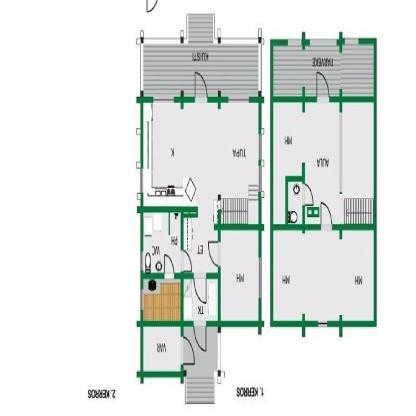door: (315, 68, 329, 104), (194, 320, 208, 354), (194, 71, 210, 100), (207, 240, 221, 270), (181, 336, 195, 364), (194, 273, 206, 303), (300, 181, 314, 205), (179, 249, 193, 272), (321, 204, 332, 229), (164, 255, 174, 279)
window: (310, 38, 337, 47), (258, 258, 262, 301), (228, 95, 247, 102), (154, 96, 173, 103), (288, 40, 301, 47), (346, 39, 358, 46), (318, 320, 326, 330)
zone: (140, 100, 260, 272), (272, 99, 372, 222), (143, 14, 261, 93), (272, 230, 372, 321), (272, 43, 372, 94), (221, 228, 259, 323), (184, 326, 218, 400), (142, 212, 180, 274), (142, 328, 182, 372), (143, 277, 181, 323), (184, 279, 216, 321), (288, 180, 302, 224)
